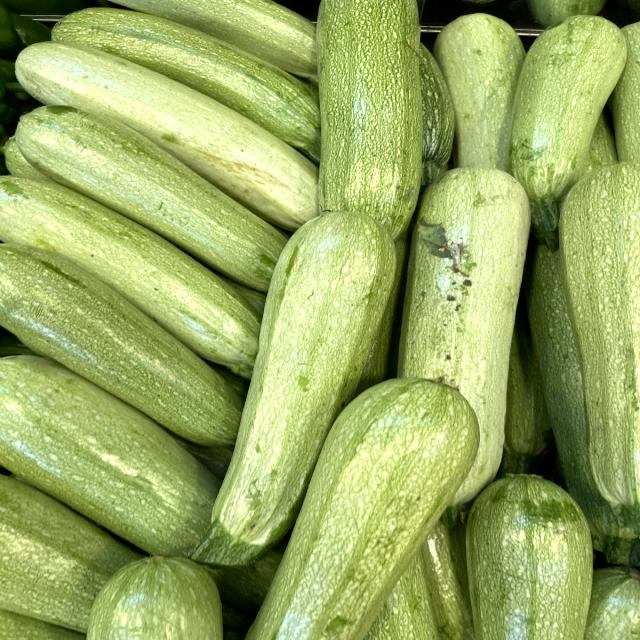zucchini: (185, 205, 414, 572)
